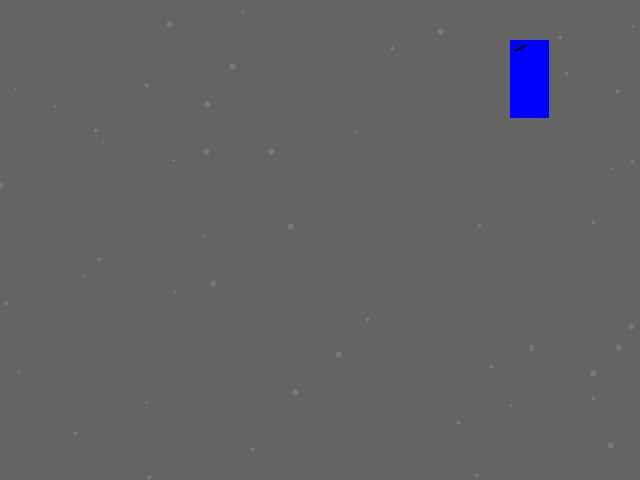motorcycle: (510, 40, 548, 117)
